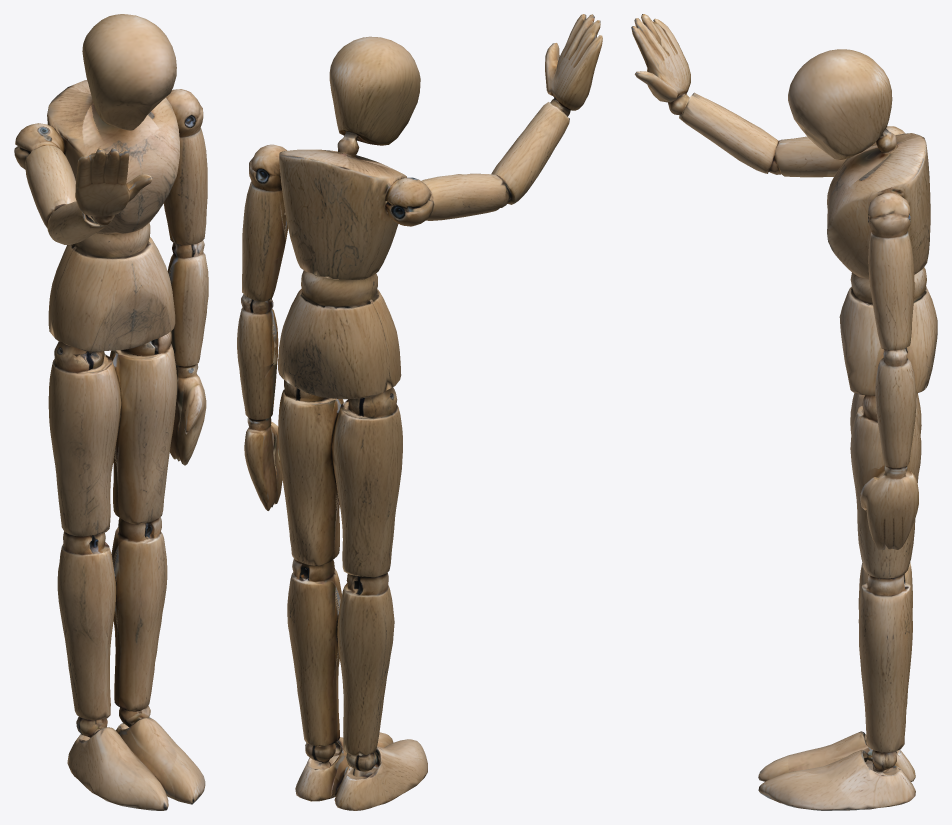
The model's file is VAR_DollRoom_Doll_ArmHalf.fbx.
The picture shows the model from 3 angles, left to right: view 1: azimuth 30°, elevation 25°; view 2: azimuth 150°, elevation 25°; view 3: azimuth 270°, elevation 25°; orthographic projection. The views are drawn at different scales.
Parts seen in each view (by area): view 1: texture_mapping; view 2: texture_mapping; view 3: texture_mapping.
Boxes of the visible parts, x1,y1,x2,y2 form: texture_mapping: (14, 14, 208, 810); texture_mapping: (237, 14, 602, 810); texture_mapping: (631, 14, 937, 810).
Size of the model in its own units: 0.3434 by 0.381 by 1.
Materials: 1 (1 with a texture image).
